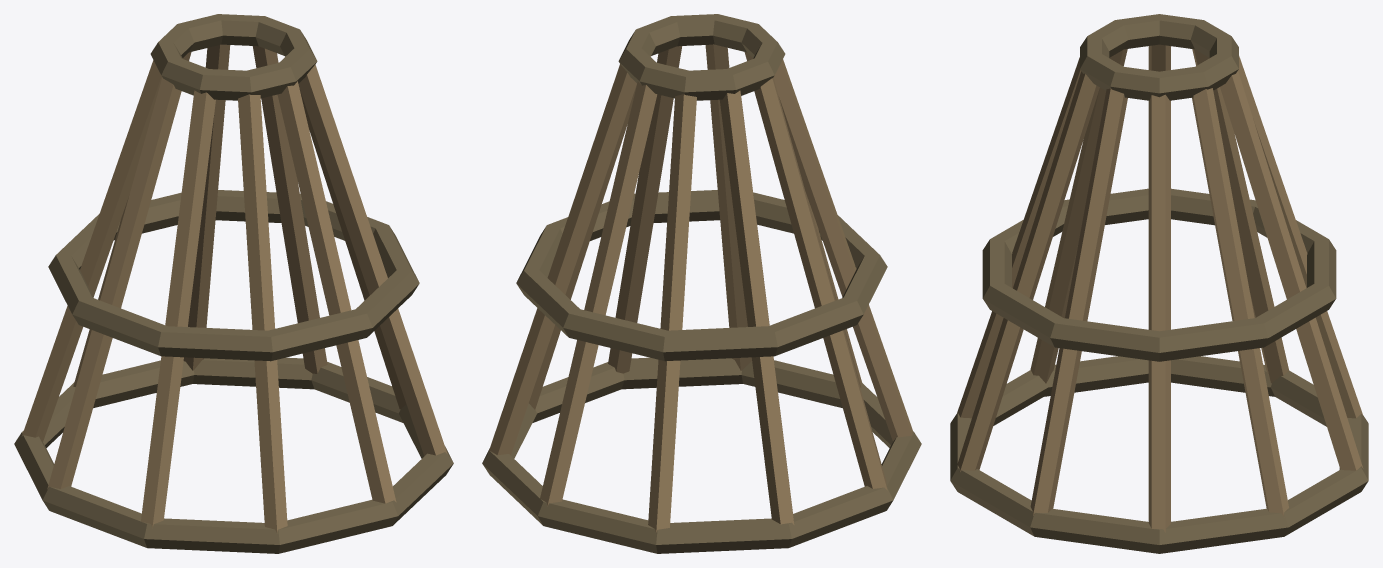
Rendered from qc_fish_trap.obj.
3 renders of one model, left to right at view 1: azimuth 30°, elevation 25°; view 2: azimuth 150°, elevation 25°; view 3: azimuth 270°, elevation 25°, orthographic.
Parts seen in each view (by area): view 1: qc_fish_trap; view 2: qc_fish_trap; view 3: qc_fish_trap.
Part boxes in pixels (left/top/right/bottom): qc_fish_trap: left=14, top=14, right=453, bottom=553; qc_fish_trap: left=482, top=14, right=921, bottom=553; qc_fish_trap: left=950, top=14, right=1368, bottom=553.
Size of the model in its own units: 0.516 by 0.5412 by 0.4907.
